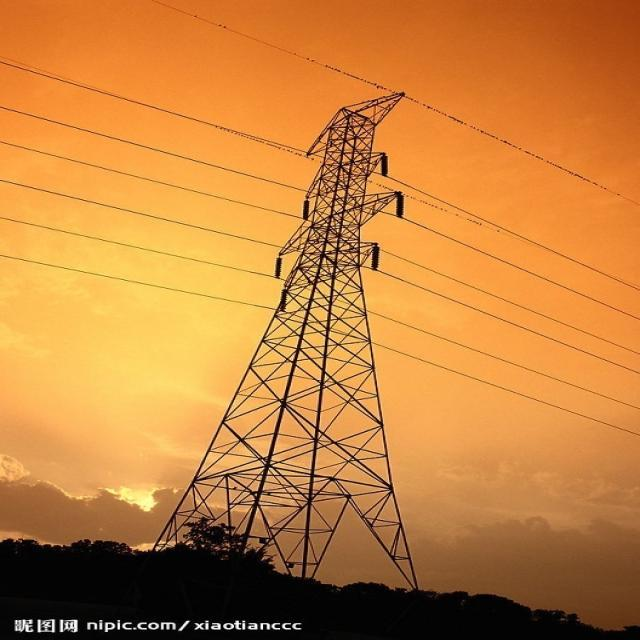non-critical vegetation: (211, 92, 458, 573)
